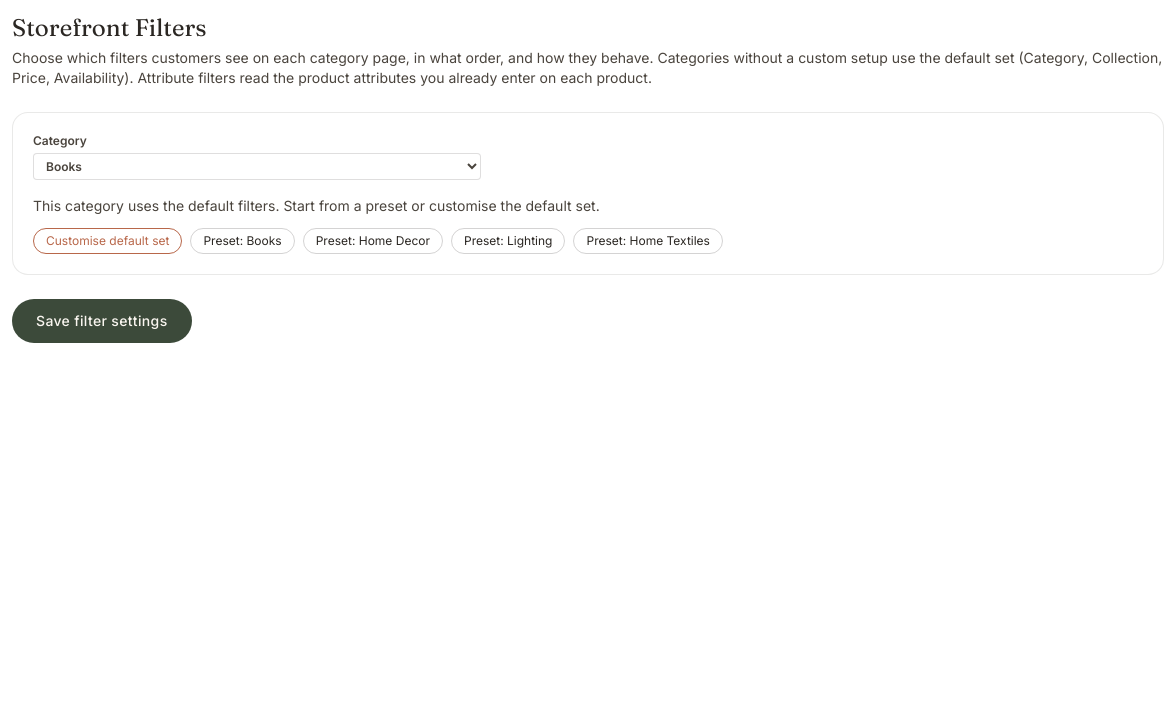
Test case: admin storefront filter configuration › categories without a setup show the default-filters notice; presets create a config
expect the text "uses the default filters" is shown: met, box [33,197,600,214]
Click the button "Preset: Books" at (243, 241), box [190,228,295,254]
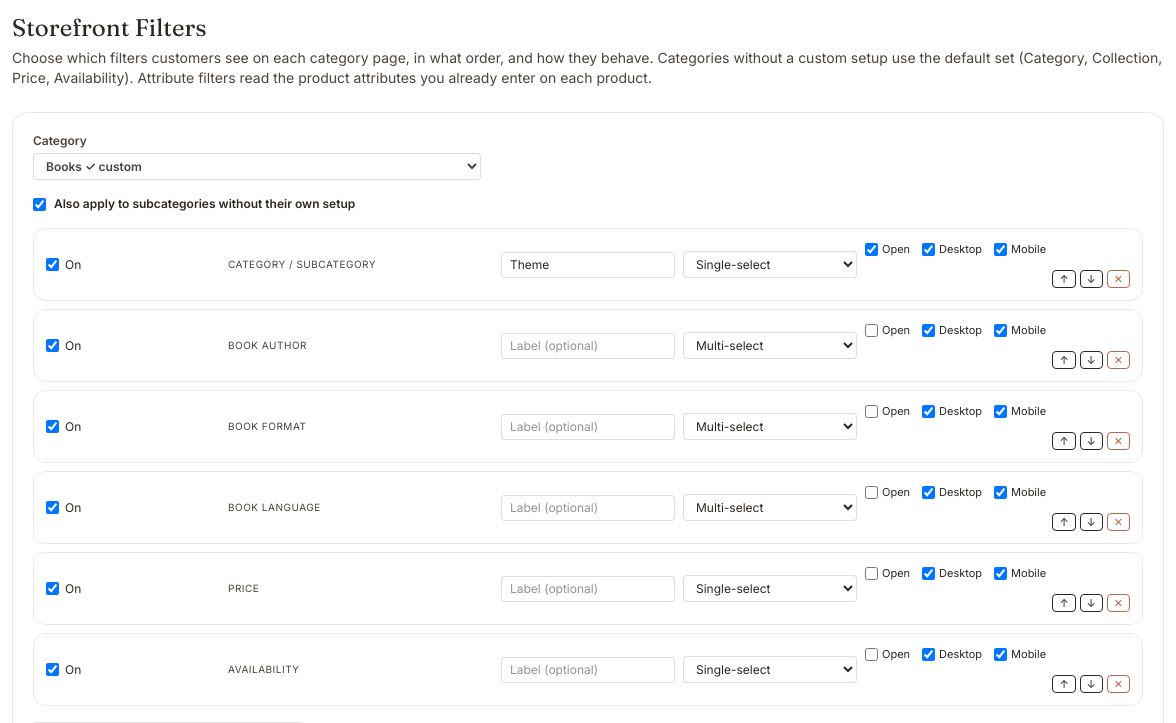
expect the text "uses the default filters" is gone: met
